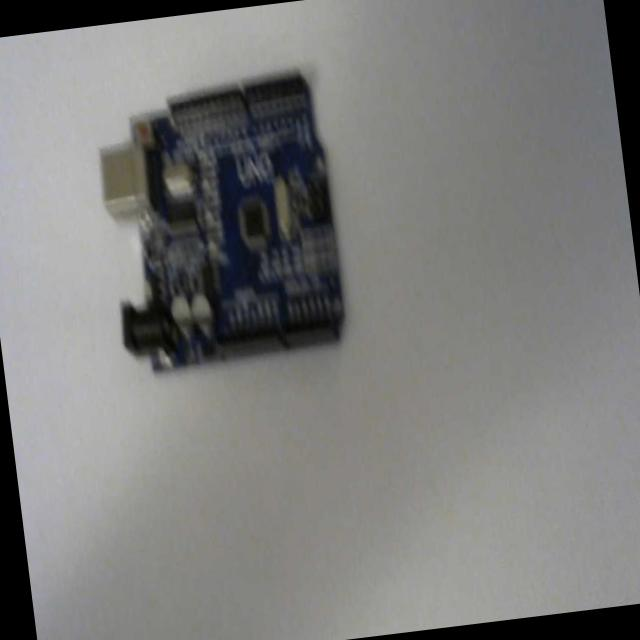arduino: (86, 58, 356, 382)
